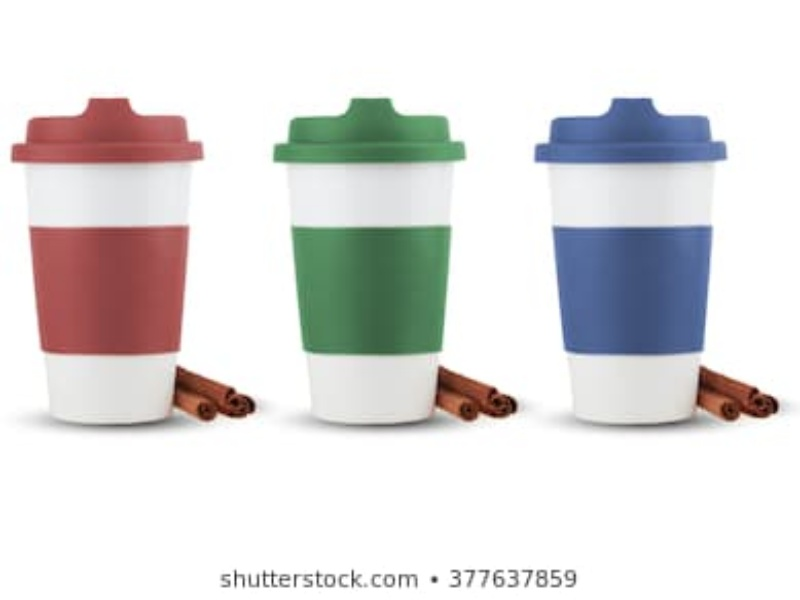coffee-lid: (9, 96, 206, 164), (534, 96, 731, 164), (272, 94, 469, 162)
plastic-cup: (11, 96, 206, 425), (536, 97, 731, 426), (274, 97, 469, 426)
